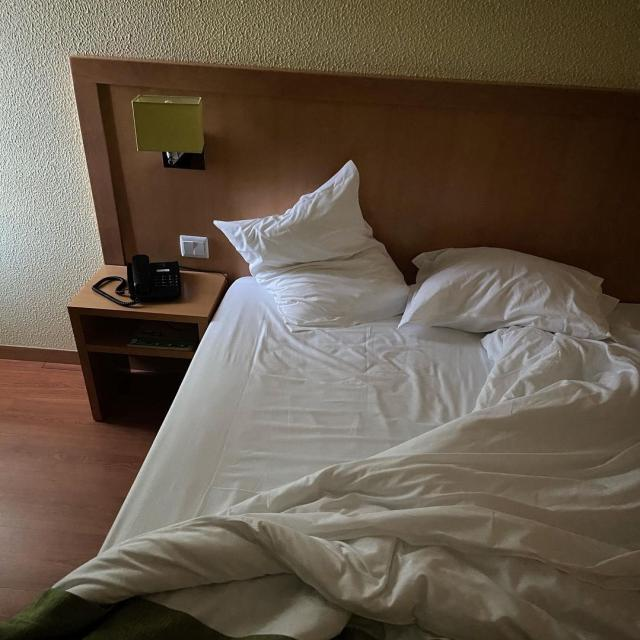bed: (129, 176, 630, 640)
